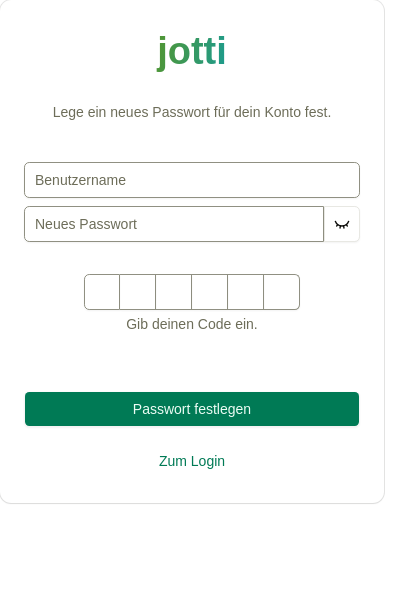
Test case: PasswordForm › zeigt bei leerem Formular die Feldfehler und löst keinen Aufruf aus
Click the button "Passwort festlegen": (192, 409) [24, 391, 360, 427]
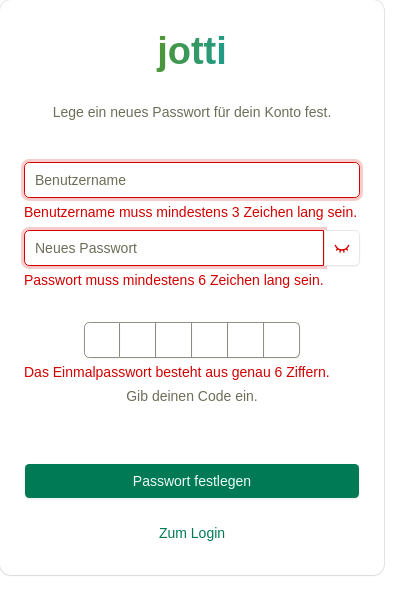
Now the text "Benutzername muss mindestens 3 Zeichen lang sein." is shown, box [24, 202, 360, 222]
Now the text "Passwort muss mindestens 6 Zeichen lang sein." is shown, box [24, 270, 360, 290]
